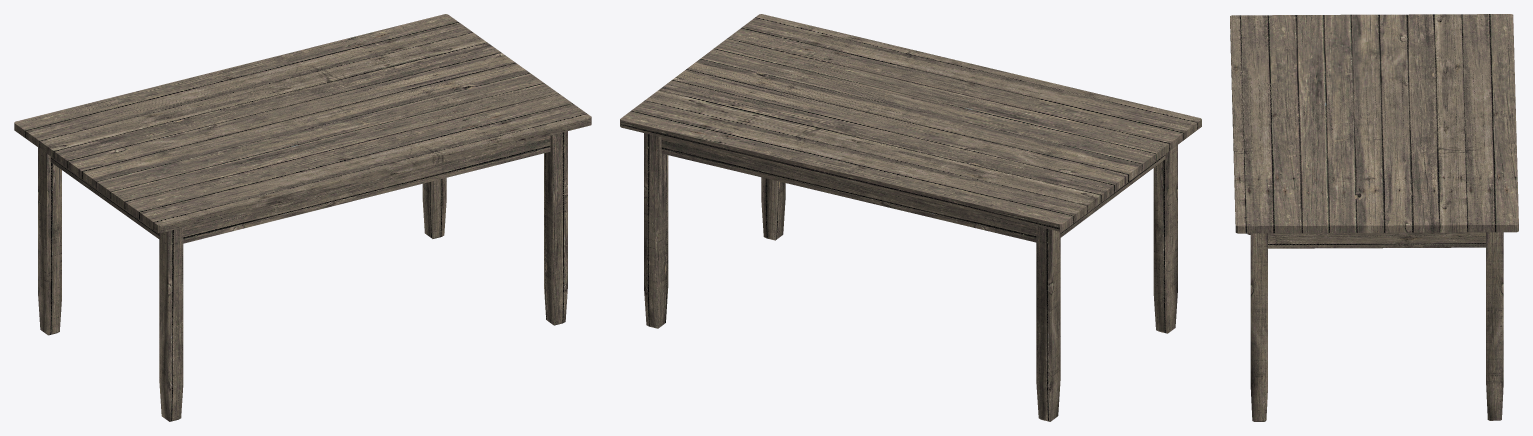
Rendered from Table.fbx.
The picture shows the model from 3 angles, left to right: view 1: azimuth 30°, elevation 25°; view 2: azimuth 150°, elevation 25°; view 3: azimuth 270°, elevation 25°; orthographic projection.
Parts seen in each view (by area): view 1: Group1; view 2: Group1; view 3: Group1.
Part boxes in pixels (box(x1,y1,x2,y2)): Group1: box(14, 14, 591, 421); Group1: box(620, 14, 1201, 421); Group1: box(1230, 14, 1518, 421).
Size of the model in its own units: 2104 by 951 by 1211.
